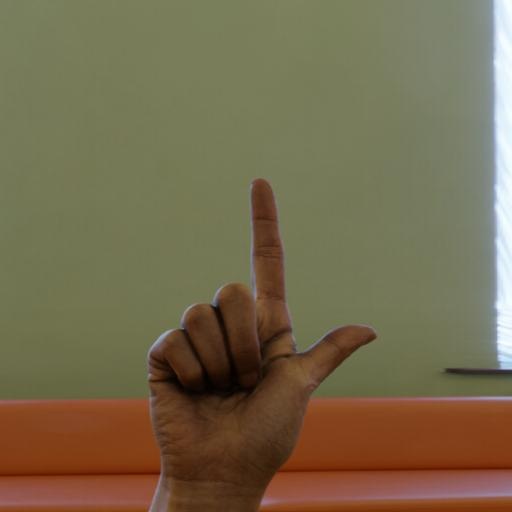L: (130, 167, 382, 511)
